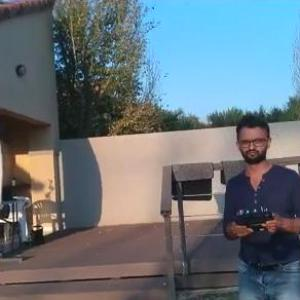follow: (219, 108, 300, 299)
